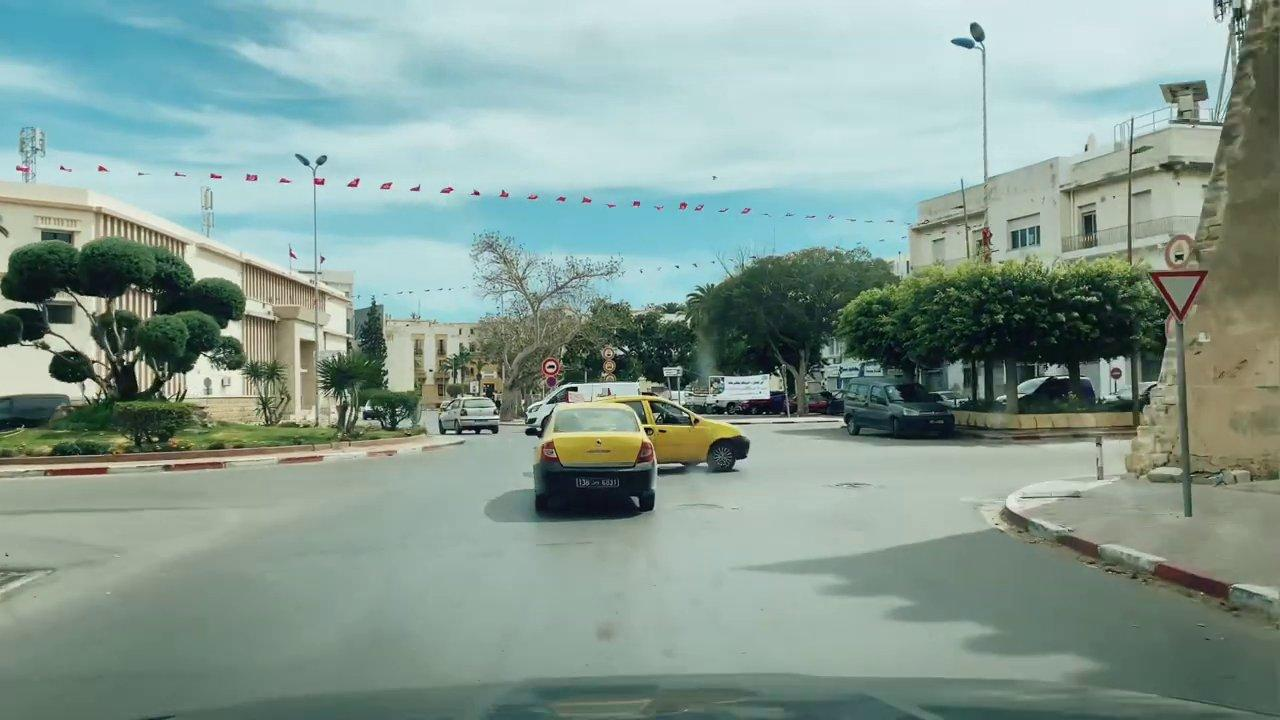give way: (1142, 268, 1212, 325)
no vehicles carrying explosives: (1161, 233, 1195, 273)
